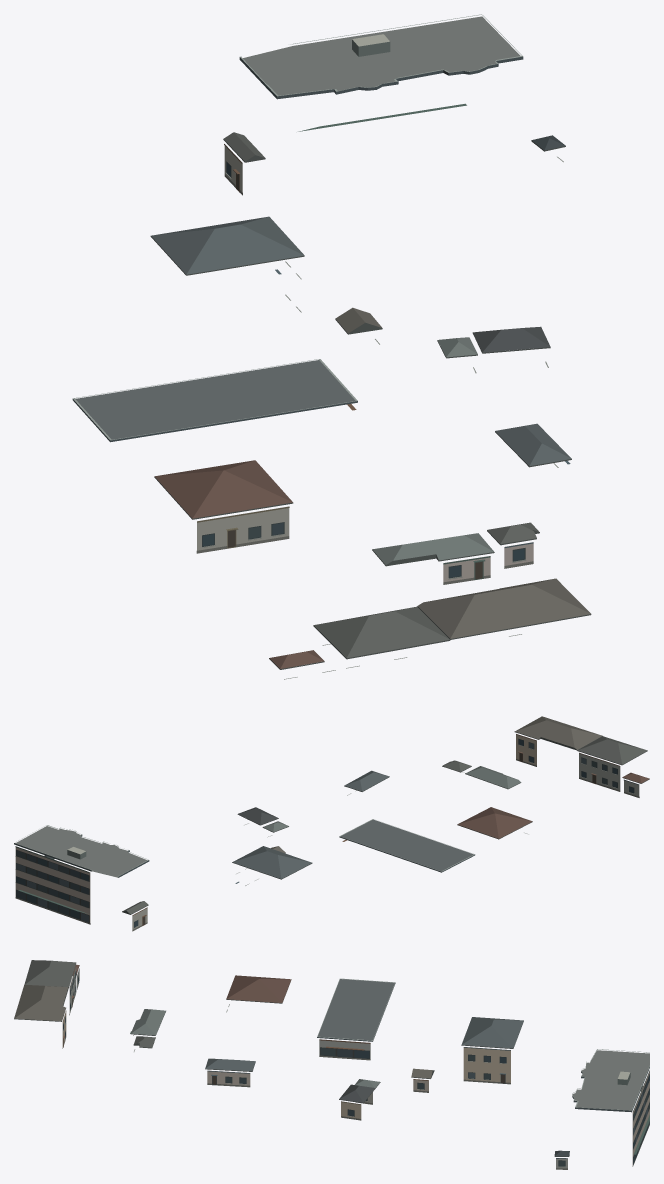
3 renders of one model, top to bottom at view 1: azimuth 30°, elevation 25°; view 2: azimuth 150°, elevation 25°; view 3: azimuth 270°, elevation 25°, orthographic. The views are drawn at different scales.
Parts seen in each view (by area): view 1: r6-c1; view 2: r6-c1; view 3: r6-c1.
Boxes of the visible parts, box(x1,y1,x2,y2) form: r6-c1: box(72, 14, 591, 679); r6-c1: box(14, 716, 649, 931); r6-c1: box(14, 960, 649, 1169).
Bounding box in the file's own units: 92.39 × 14.38 × 128.
